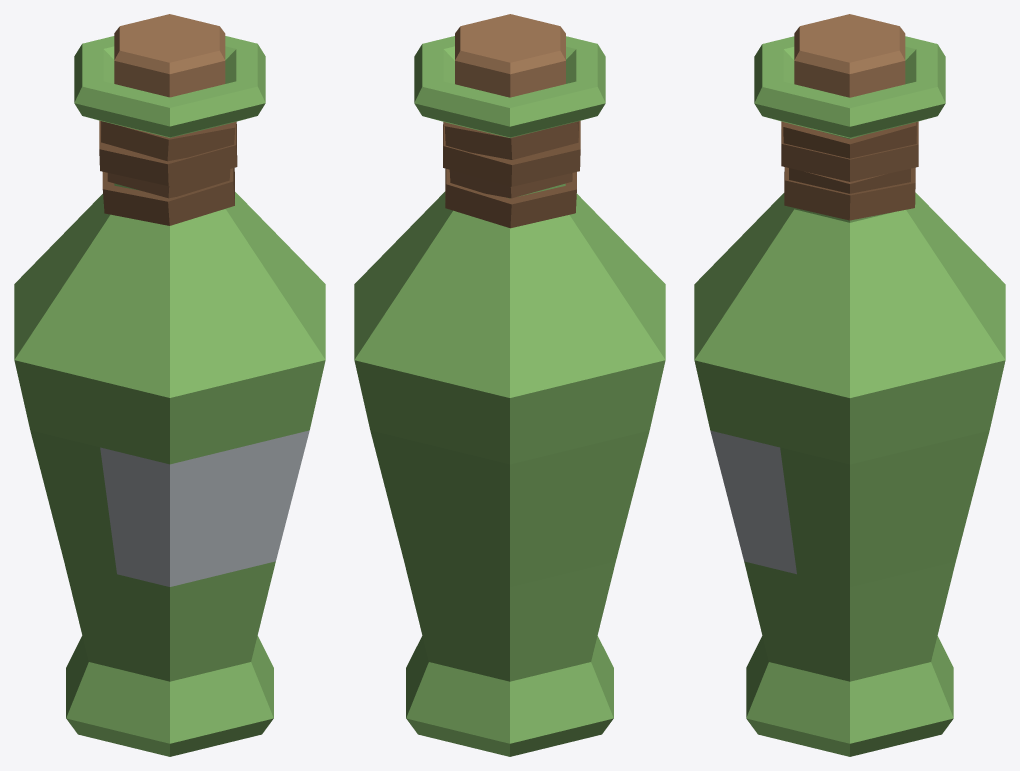
The model's file is Green_Potion_8(String+Label).fbx.
3 renders of one model, left to right at view 1: azimuth 30°, elevation 25°; view 2: azimuth 150°, elevation 25°; view 3: azimuth 270°, elevation 25°, orthographic.
Parts seen in each view (by area): view 1: Green_Potion_8(String+Label); view 2: Green_Potion_8(String+Label); view 3: Green_Potion_8(String+Label).
Part boxes in pixels (left/top/right/bottom): Green_Potion_8(String+Label): left=14, top=14, right=325, bottom=756; Green_Potion_8(String+Label): left=354, top=14, right=665, bottom=756; Green_Potion_8(String+Label): left=694, top=14, right=1005, bottom=756.
Bounding box in the file's own units: 16.45 × 34.03 × 14.25.
